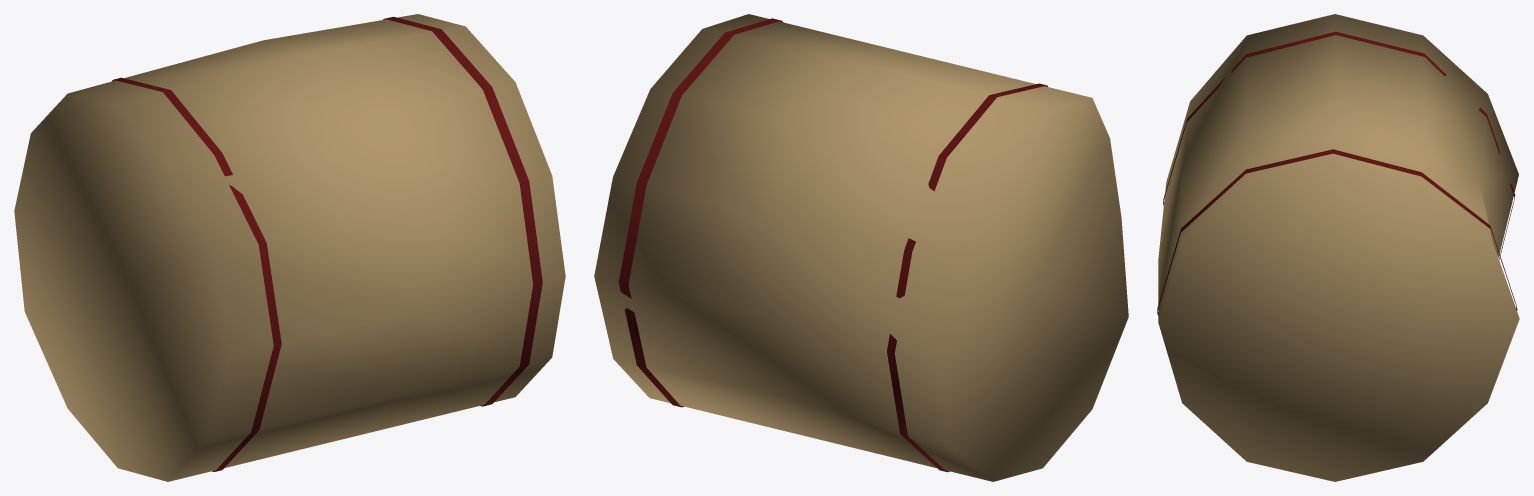
File: HayBail.fbx
The picture shows the model from 3 angles, left to right: view 1: azimuth 30°, elevation 25°; view 2: azimuth 150°, elevation 25°; view 3: azimuth 270°, elevation 25°; orthographic projection. The views are drawn at different scales.
Visible parts, largest first — view 1: HayBail; view 2: HayBail; view 3: HayBail.
Boxes of the visible parts, x1,y1,x2,y2 form: HayBail: (14, 14, 565, 481); HayBail: (594, 14, 1128, 481); HayBail: (1157, 14, 1519, 481).
Bounding box in the file's own units: 0.1201 × 0.1209 × 0.1228.
